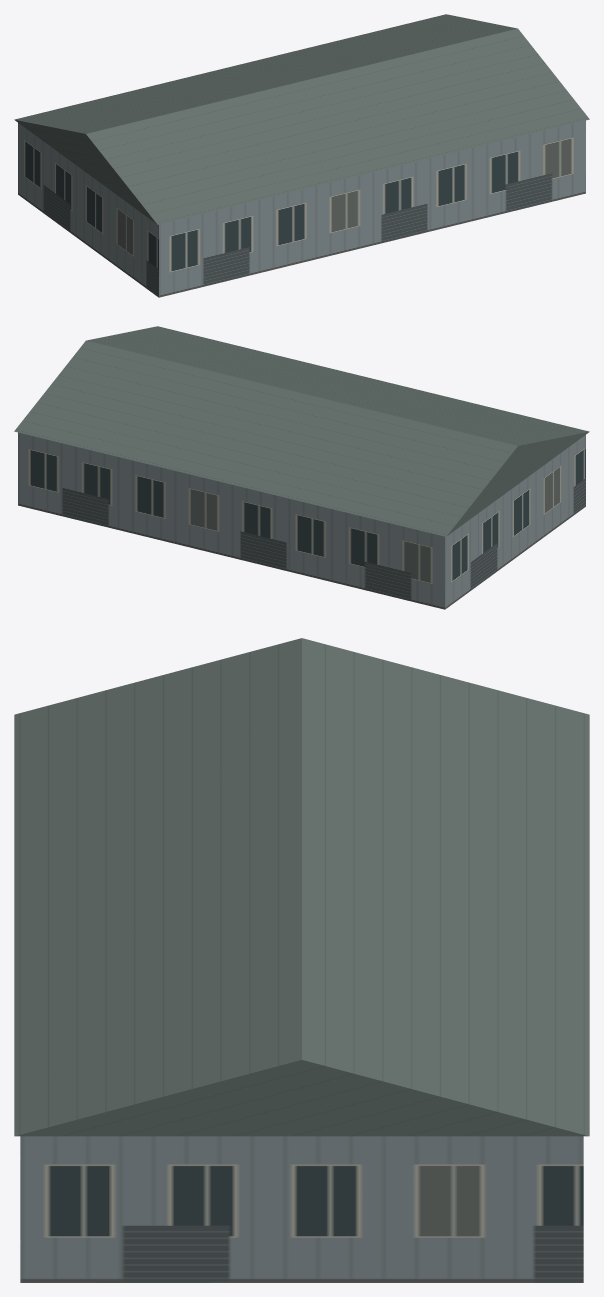
File: kyiv_warehouse_01.obj
3 renders of one model, top to bottom at view 1: azimuth 30°, elevation 25°; view 2: azimuth 150°, elevation 25°; view 3: azimuth 270°, elevation 25°, orthographic. The views are drawn at different scales.
Parts seen in each view (by area): view 1: kyiv_warehouse_01; view 2: kyiv_warehouse_01; view 3: kyiv_warehouse_01.
Part boxes in pixels (x1=…): kyiv_warehouse_01: x1=14, y1=14, x2=589, y2=297; kyiv_warehouse_01: x1=14, y1=326, x2=589, y2=609; kyiv_warehouse_01: x1=14, y1=638, x2=589, y2=1282.
Size of the model in its own units: 42.5 by 10.6 by 24.5.
1 material, 1 textured.
